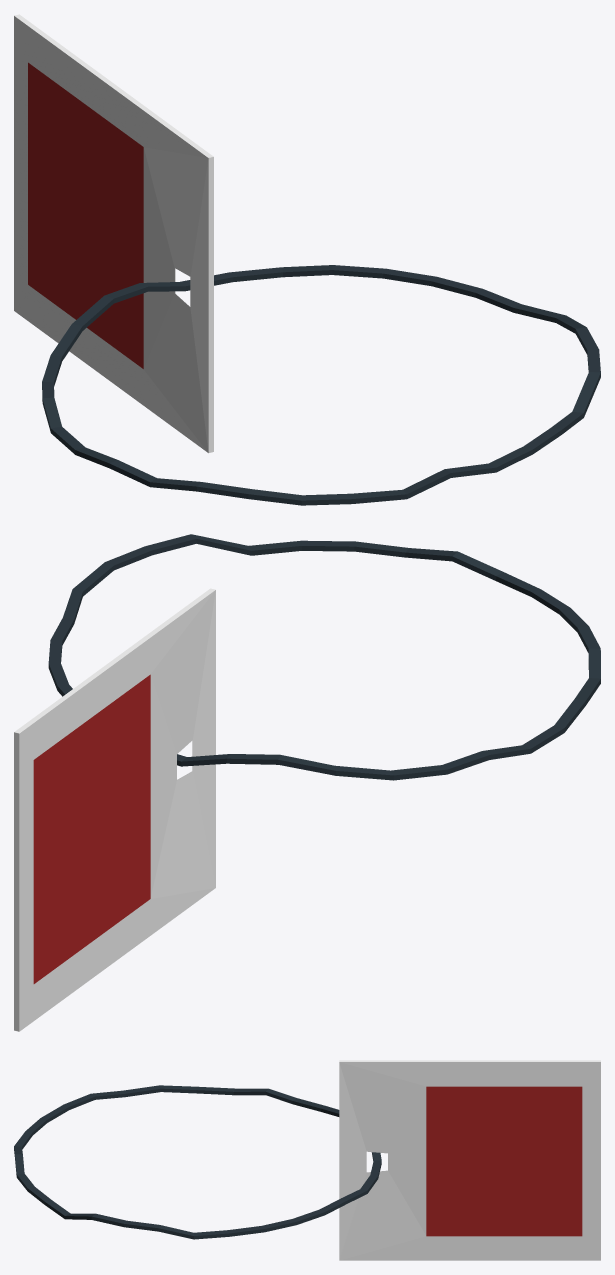
File: RedSquareTag.fbx
3 renders of one model, top to bottom at view 1: azimuth 30°, elevation 25°; view 2: azimuth 150°, elevation 25°; view 3: azimuth 270°, elevation 25°, orthographic. The views are drawn at different scales.
Parts seen in each view (by area): view 1: SquareTag; view 2: SquareTag; view 3: SquareTag.
Part boxes in pixels (x1,y1,x2,y2): SquareTag: (14,14,600,505); SquareTag: (14,534,600,1031); SquareTag: (14,1060,600,1260).
Size of the model in its own units: 55.34 by 31.91 by 85.46.
